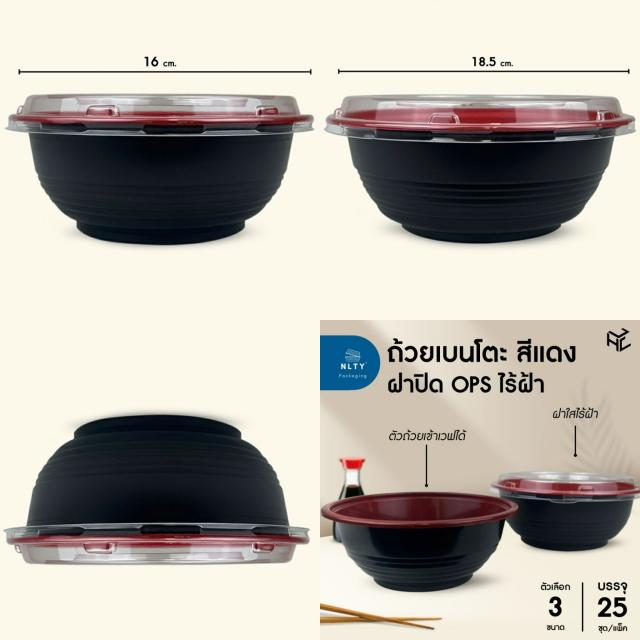Single-Use-Plastic: (326, 95, 634, 242), (9, 94, 312, 243), (6, 415, 309, 564), (321, 492, 518, 591), (491, 471, 640, 551)
